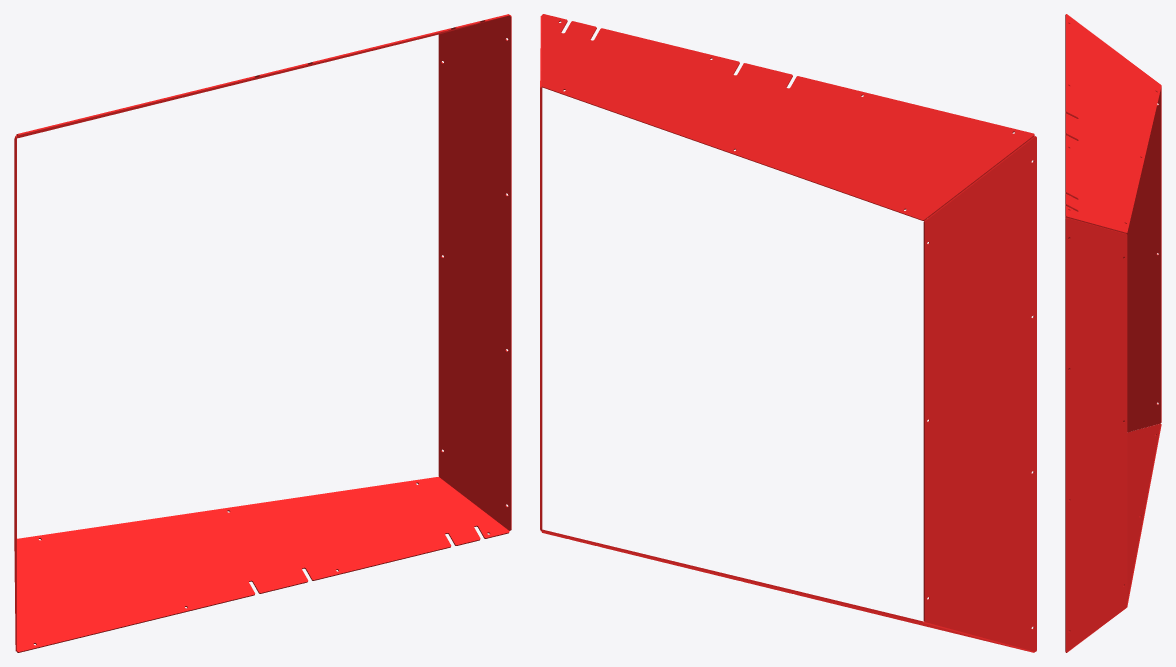
3 views of the same model, side by side, from view 1: azimuth 30°, elevation 25°; view 2: azimuth 150°, elevation 25°; view 3: azimuth 270°, elevation 25° (orthographic). The views are drawn at different scales.
Visible parts, largest first — view 1: GE-26311: Hub Side Diffuser (1):1, GE-26310: Hub Rear Diffuser:1, GE-26311: Hub Side Diffuser:1, GE-26309: Hub Front Diffuser:1; view 2: GE-26309: Hub Front Diffuser:1, GE-26311: Hub Side Diffuser:1, GE-26311: Hub Side Diffuser (1):1, GE-26310: Hub Rear Diffuser:1; view 3: GE-26310: Hub Rear Diffuser:1, GE-26311: Hub Side Diffuser:1, GE-26309: Hub Front Diffuser:1, GE-26311: Hub Side Diffuser (1):1.
Part boxes in pixels (x1,y1,x2,y2): GE-26311: Hub Side Diffuser (1):1: (16,477,509,652); GE-26310: Hub Rear Diffuser:1: (438,15,511,530); GE-26311: Hub Side Diffuser:1: (16,14,509,138); GE-26309: Hub Front Diffuser:1: (14,135,16,651); GE-26309: Hub Front Diffuser:1: (923,136,1036,651); GE-26311: Hub Side Diffuser:1: (541,14,1034,220); GE-26311: Hub Side Diffuser (1):1: (541,529,1034,652); GE-26310: Hub Rear Diffuser:1: (540,15,542,530); GE-26310: Hub Rear Diffuser:1: (1065,217,1127,651); GE-26311: Hub Side Diffuser:1: (1065,14,1161,233); GE-26309: Hub Front Diffuser:1: (1065,86,1161,432); GE-26311: Hub Side Diffuser (1):1: (1065,423,1161,652).
Bounding box in the file's own units: 1.19 × 1.19 × 0.237.
